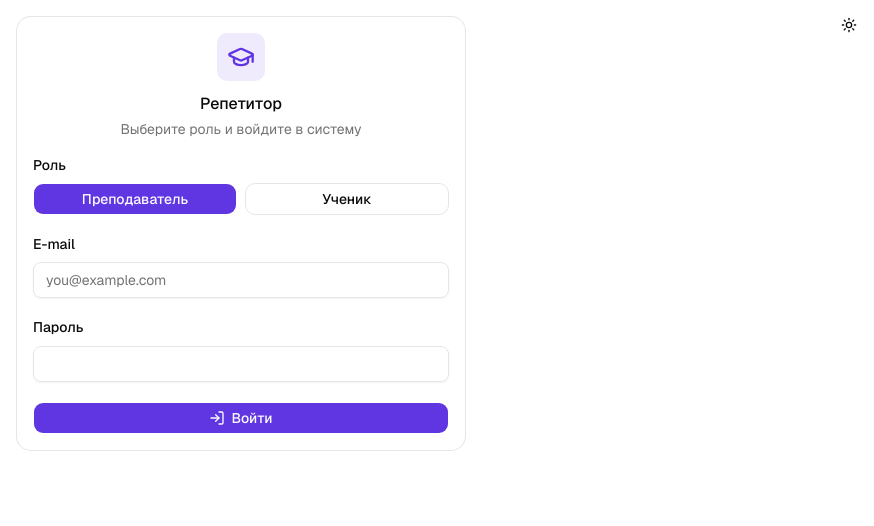
Test case: LoginForm (integration) › ошибка от loginAction отображается в Alert
Type "a@b.c" into the field labelled "E-mail" at (241, 280), box [33, 262, 449, 298]
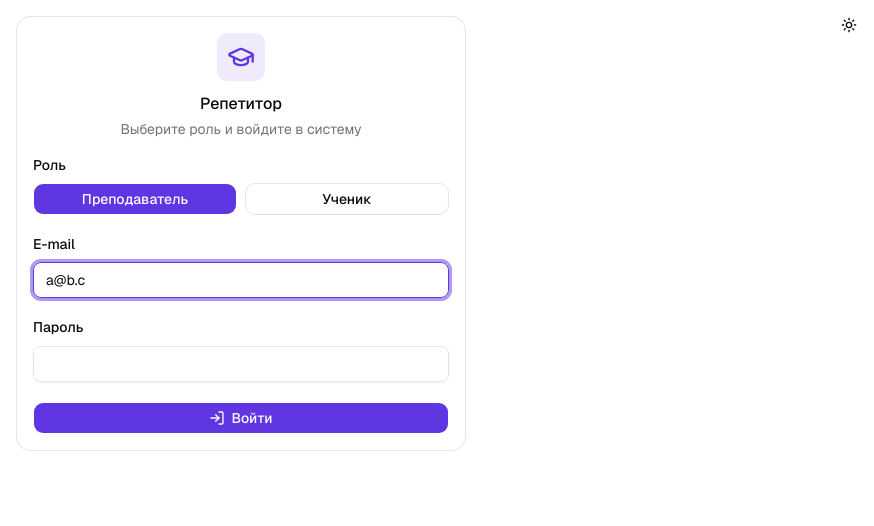
Type "wrong" into the password field labelled "Пароль" at (241, 364), box [33, 346, 449, 382]
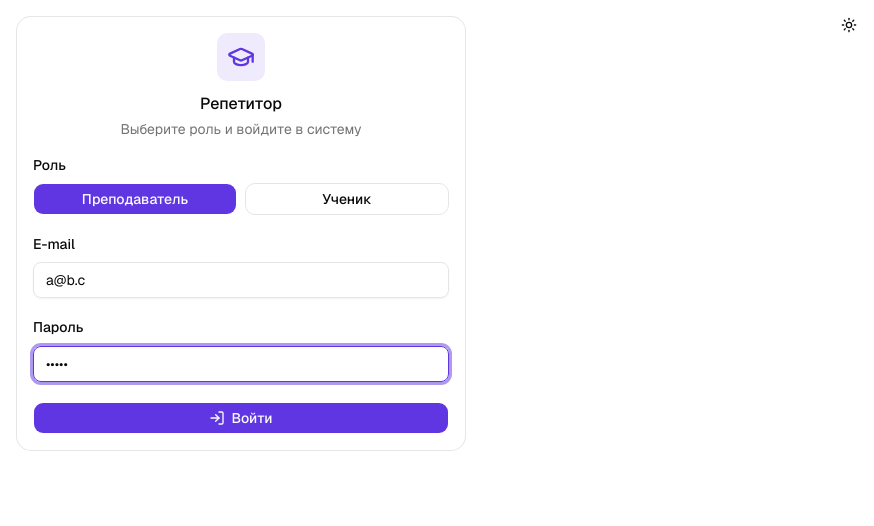
Click the button "Войти" at (241, 418), box [33, 402, 449, 434]
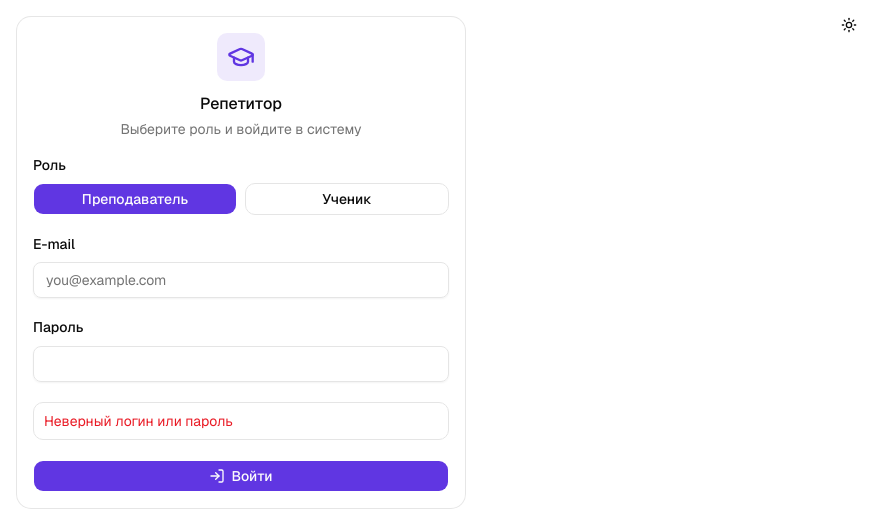
Expected: the text "Неверный логин или пароль" is shown, [44, 412, 233, 430]
